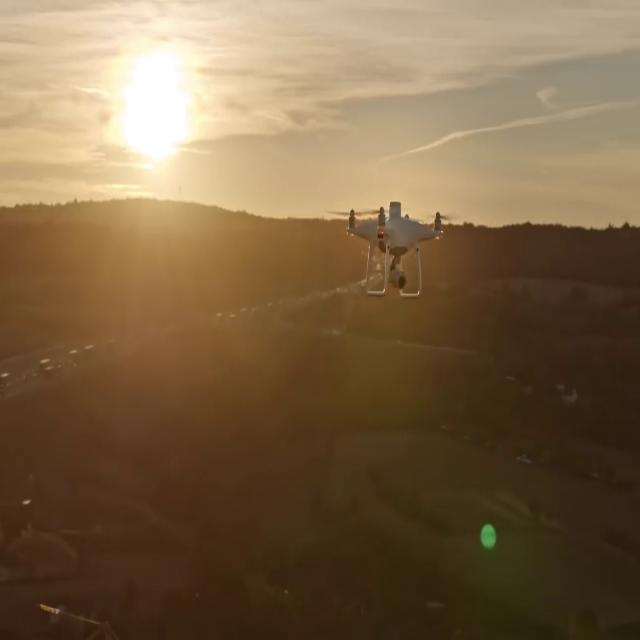drone: (328, 198, 452, 300)
